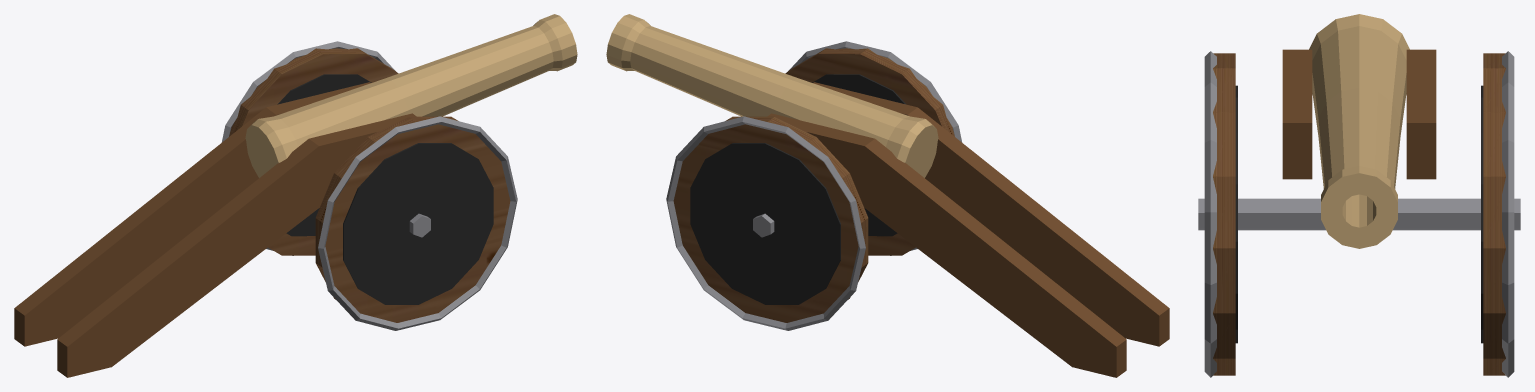
The model's file is field_cannon.glb.
3 renders of one model, left to right at view 1: azimuth 30°, elevation 25°; view 2: azimuth 150°, elevation 25°; view 3: azimuth 270°, elevation 25°, orthographic. The views are drawn at different scales.
Parts seen in each view (by area): view 1: Field_Cannon; view 2: Field_Cannon; view 3: Field_Cannon.
Boxes of the visible parts, x1,y1,x2,y2 form: Field_Cannon: (14, 14, 577, 377); Field_Cannon: (606, 14, 1169, 377); Field_Cannon: (1198, 14, 1520, 377).
Bounding box in the file's own units: 3.55 × 1.45 × 1.3.
Materials: 4 (1 with a texture image).
